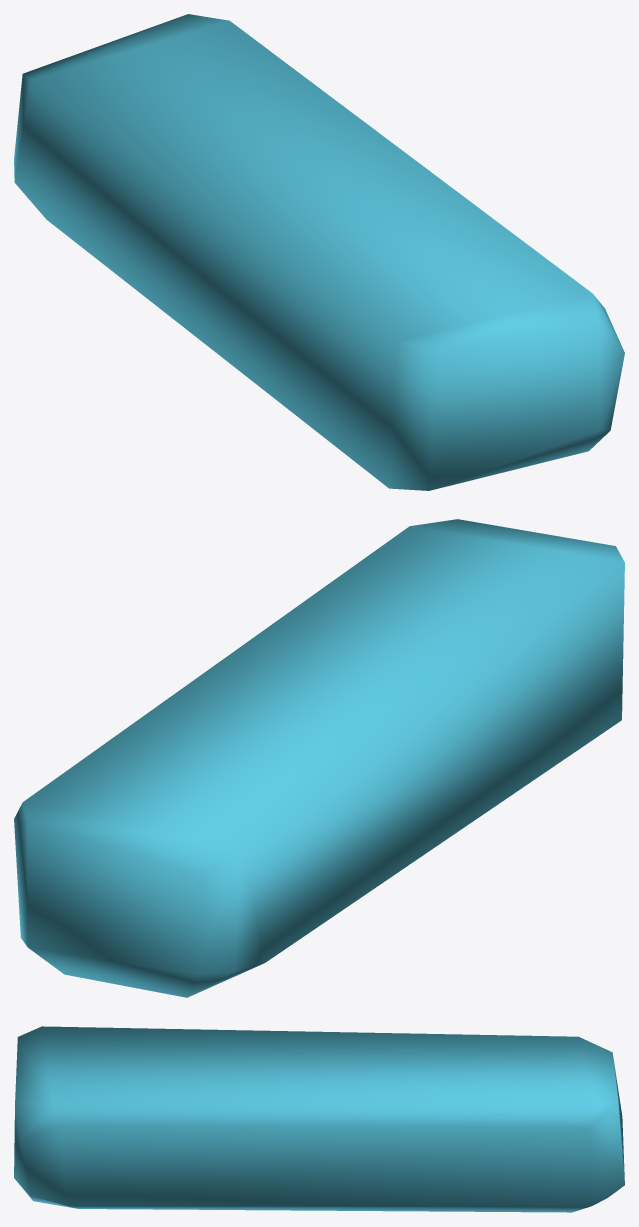
Rendered from brick_03.FBX.
3 views of the same model, one above another, from view 1: azimuth 30°, elevation 25°; view 2: azimuth 150°, elevation 25°; view 3: azimuth 270°, elevation 25° (orthographic). The views are drawn at different scales.
Visible parts, largest first — view 1: brick_03; view 2: brick_03; view 3: brick_03.
Boxes of the visible parts, x1,y1,x2,y2 form: brick_03: (14, 14, 624, 490); brick_03: (14, 519, 624, 997); brick_03: (14, 1026, 624, 1212).
Size of the model in its own units: 13.91 by 9.47 by 44.93.
